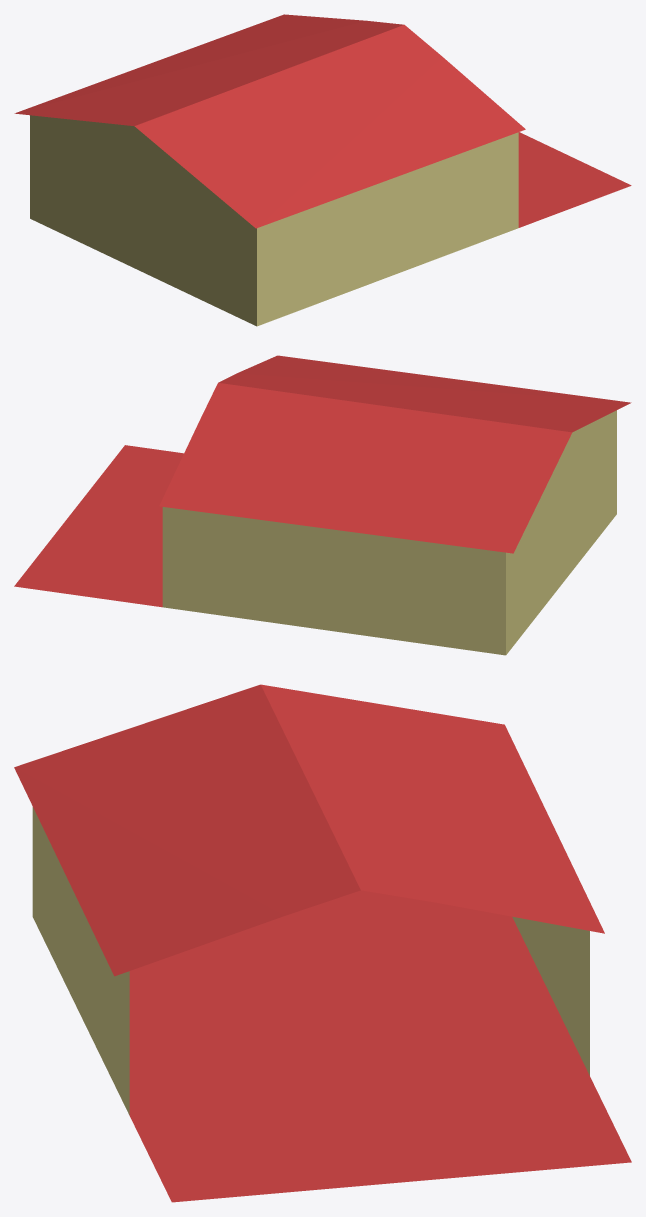
3 renders of one model, top to bottom at view 1: azimuth 30°, elevation 25°; view 2: azimuth 150°, elevation 25°; view 3: azimuth 270°, elevation 25°, orthographic. The views are drawn at different scales.
Size of the model in its own units: 25.16 by 19.69 by 7.22.
